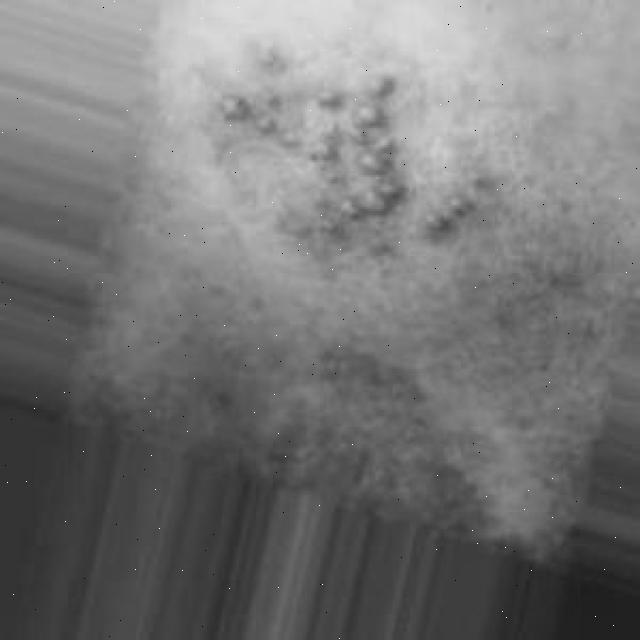Shingles: (218, 64, 471, 245)
